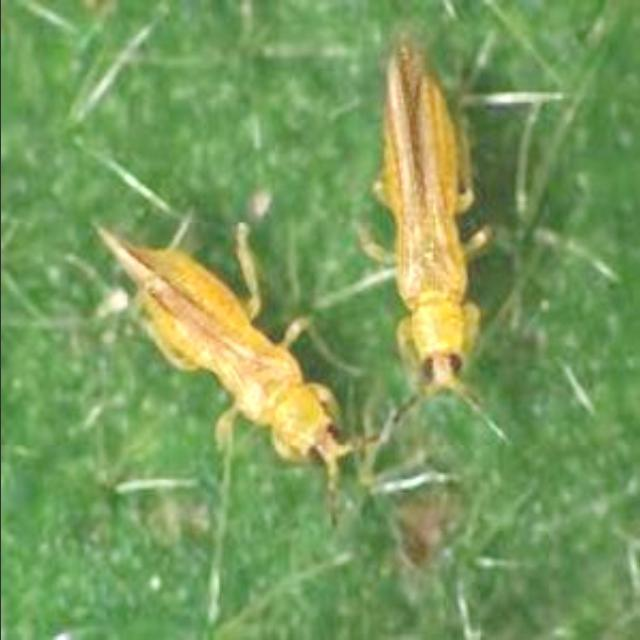melon thrips: (66, 184, 382, 508), (314, 36, 532, 414)
